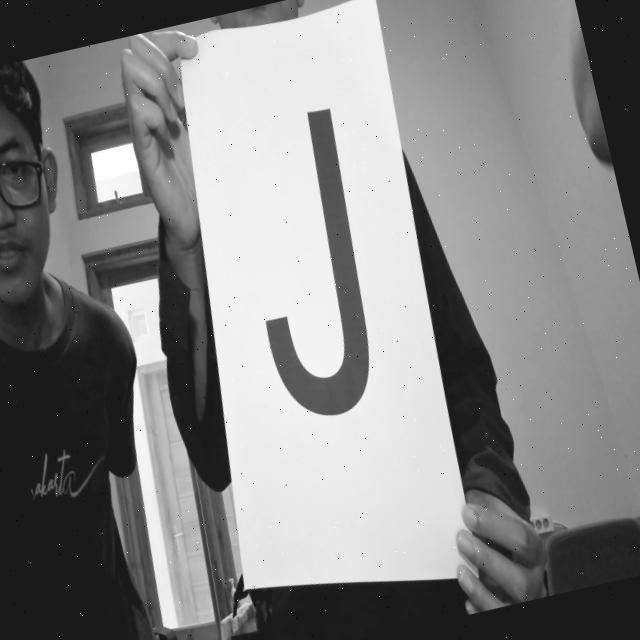j: (206, 84, 432, 454)
